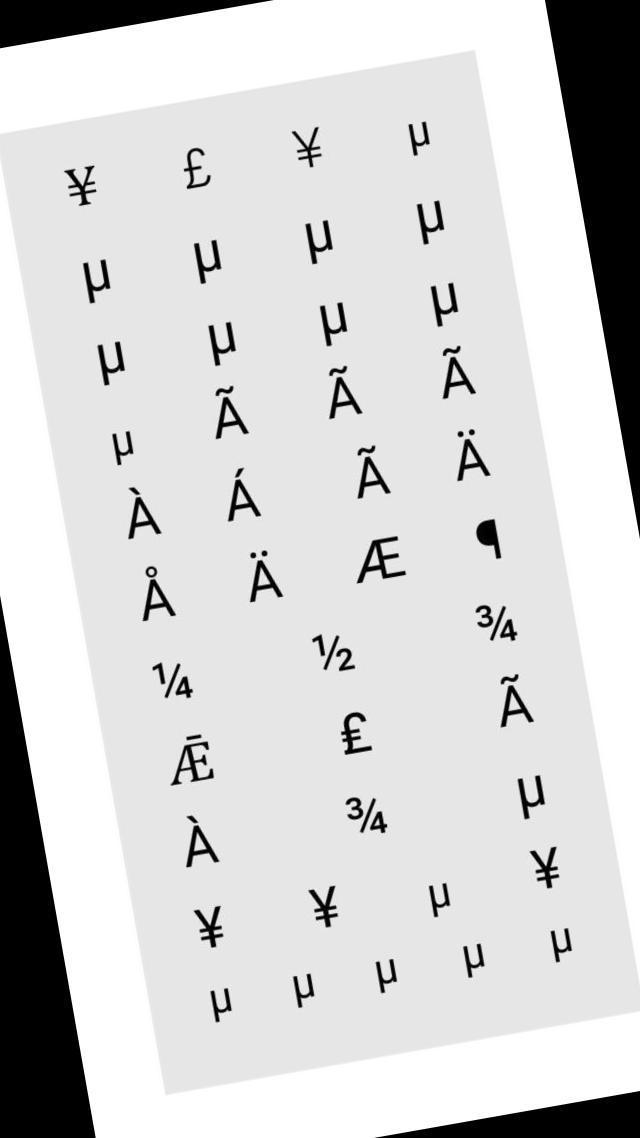ASCII: (382, 94, 448, 168), (346, 524, 413, 596), (159, 723, 221, 795), (130, 554, 183, 634), (486, 664, 540, 742), (235, 538, 288, 616), (443, 418, 496, 495), (305, 618, 362, 689), (428, 337, 482, 411), (338, 784, 396, 852), (314, 354, 367, 428), (173, 802, 226, 876), (344, 435, 396, 510), (202, 374, 254, 448), (116, 476, 167, 550), (57, 150, 109, 222), (216, 458, 266, 531), (468, 591, 524, 655), (148, 649, 200, 713), (284, 115, 334, 180), (302, 872, 350, 938), (332, 704, 380, 768), (296, 210, 344, 273), (173, 136, 220, 200), (185, 229, 232, 292), (187, 895, 233, 958), (76, 248, 121, 312), (408, 192, 454, 254), (90, 332, 136, 392), (509, 765, 553, 826), (524, 838, 568, 898), (200, 311, 244, 369), (424, 276, 466, 334), (312, 294, 356, 349), (470, 508, 510, 568), (100, 421, 144, 473), (541, 916, 581, 972), (367, 946, 407, 1002), (420, 868, 460, 924), (456, 932, 496, 986), (200, 977, 240, 1029), (286, 962, 324, 1014)
